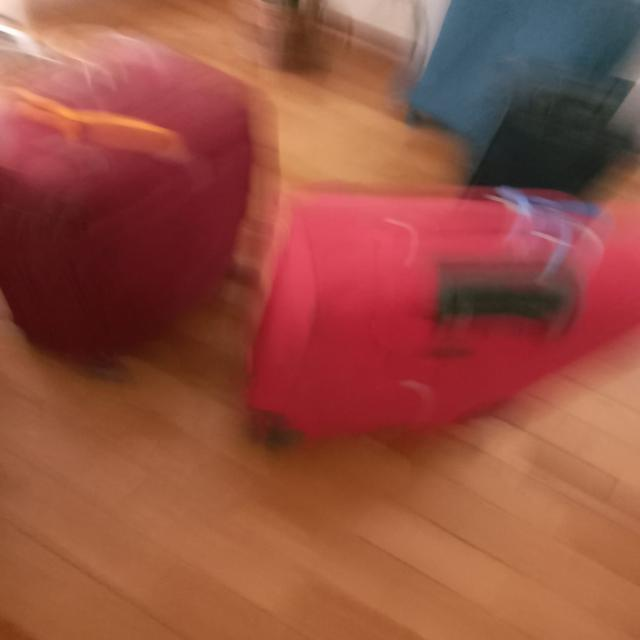Suitcase: (240, 187, 640, 453), (0, 33, 269, 382)
